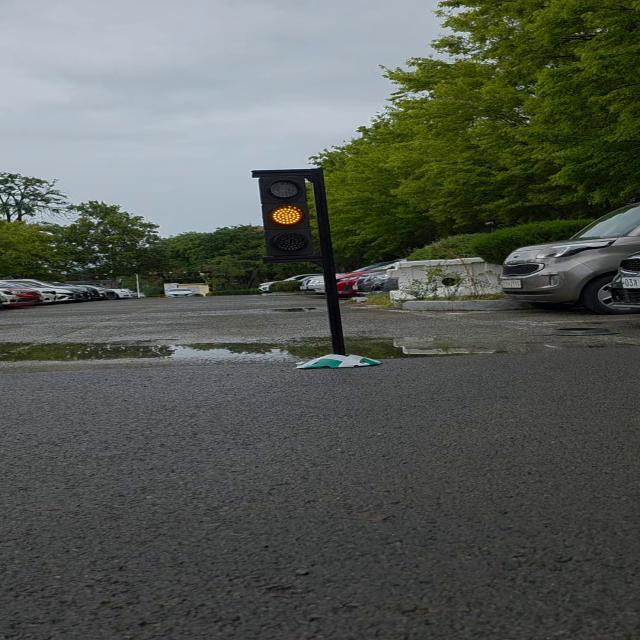yellow: (258, 174, 321, 258)
